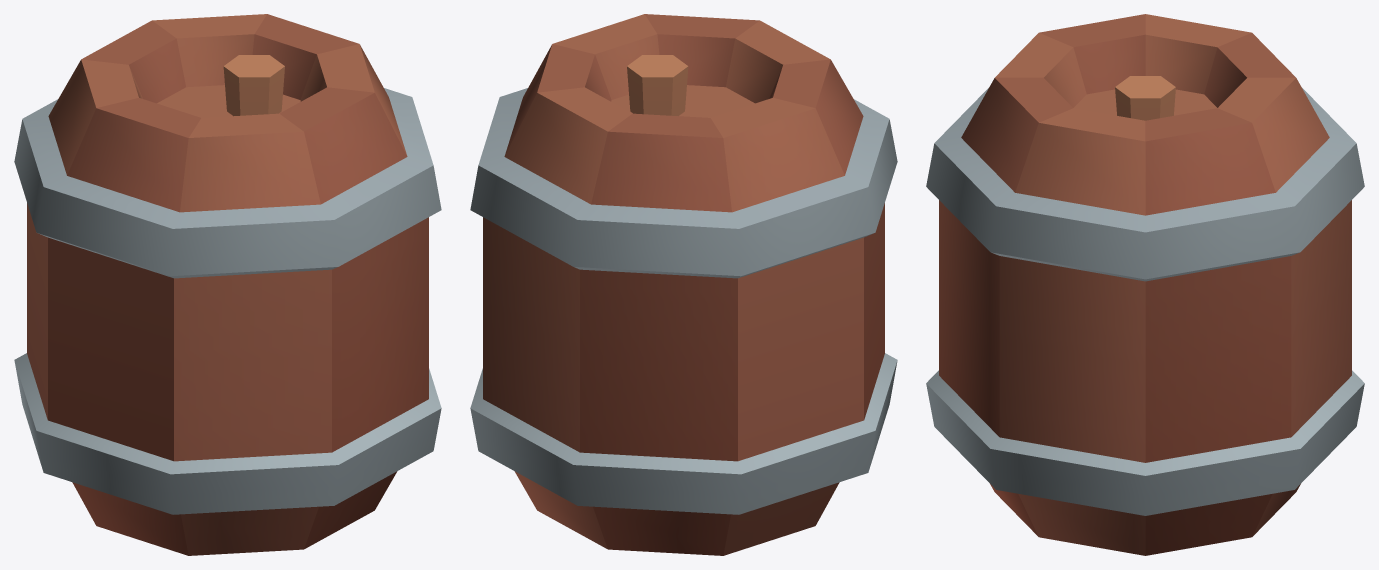
File: barrel.glb
3 renders of one model, left to right at view 1: azimuth 30°, elevation 25°; view 2: azimuth 150°, elevation 25°; view 3: azimuth 270°, elevation 25°, orthographic.
Visible parts, largest first — view 1: barrel; view 2: barrel; view 3: barrel.
Part boxes in pixels (x1,y1,x2,y2): barrel: (14, 14, 441, 555); barrel: (470, 14, 897, 555); barrel: (926, 14, 1364, 555).
Size of the model in its own units: 0.2015 by 0.2117 by 0.2015.
Materials: 1 (1 with a texture image).
